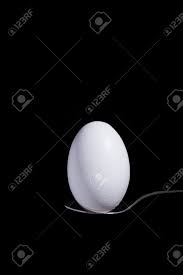egg: (67, 122, 130, 213)
